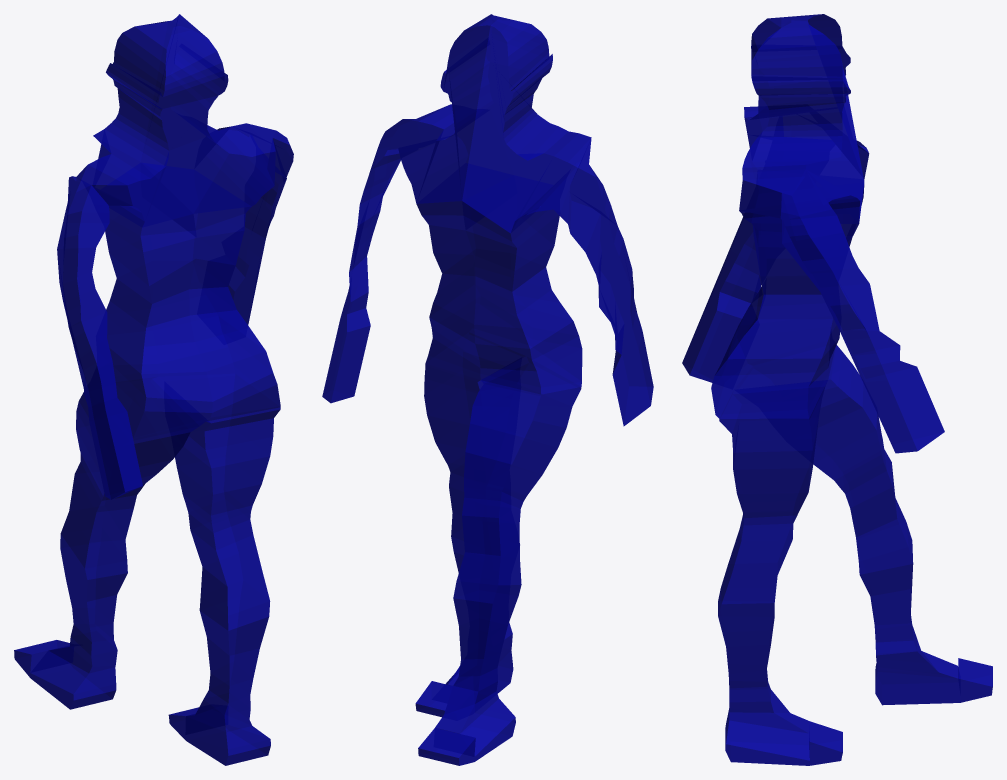
The model's file is woman_000010.obj.
The picture shows the model from 3 angles, left to right: view 1: azimuth 30°, elevation 25°; view 2: azimuth 150°, elevation 25°; view 3: azimuth 270°, elevation 25°; orthographic projection. The views are drawn at different scales.
Visible parts, largest first — view 1: Cube_Cube.001; view 2: Cube_Cube.001; view 3: Cube_Cube.001.
Boxes of the visible parts, x1,y1,x2,y2 form: Cube_Cube.001: (14, 14, 293, 765); Cube_Cube.001: (322, 14, 653, 765); Cube_Cube.001: (682, 14, 992, 765).
Size of the model in its own units: 3.51 by 9.95 by 3.91.
